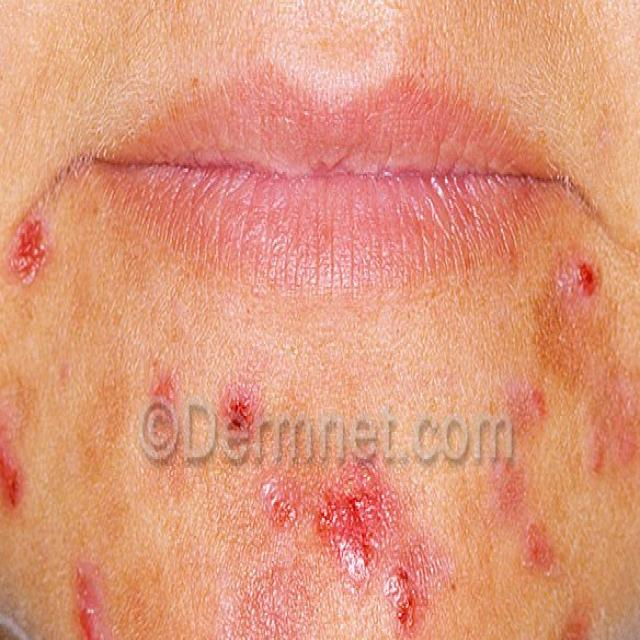Acne: (471, 421, 594, 640), (263, 482, 397, 584), (1, 190, 73, 305), (573, 361, 640, 449), (60, 566, 119, 640), (387, 539, 428, 640), (0, 403, 33, 509), (556, 253, 605, 315), (221, 387, 253, 461), (144, 365, 186, 421)
